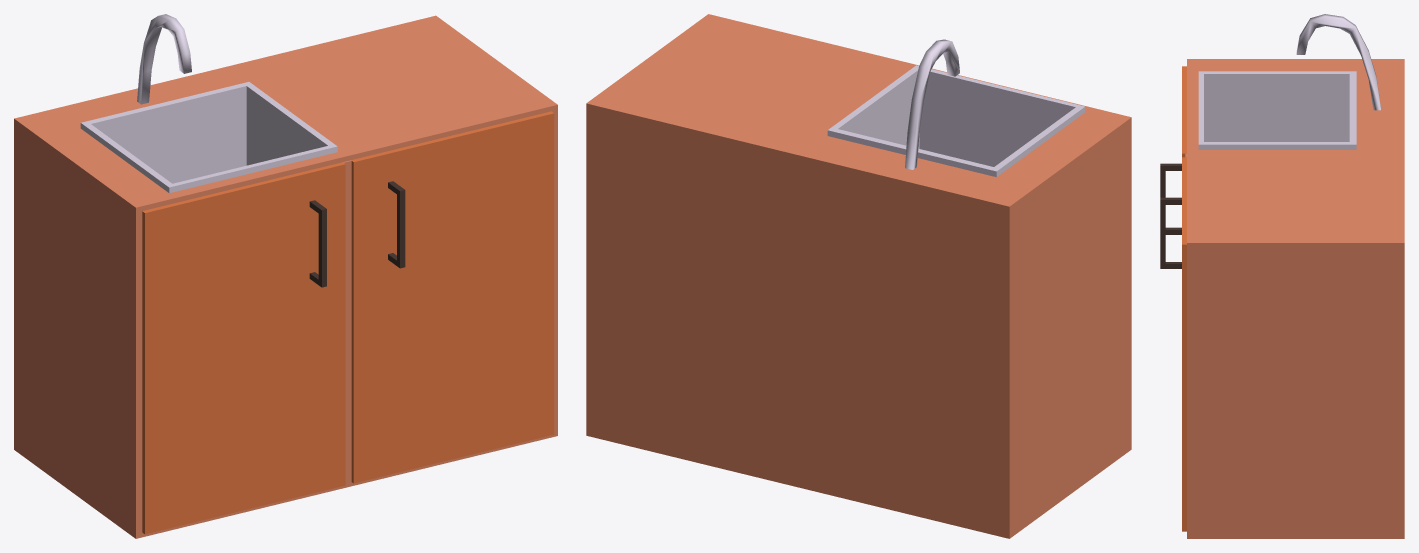
Rendered from meublesCuisineBas2.fbx.
3 views of the same model, side by side, from view 1: azimuth 30°, elevation 25°; view 2: azimuth 150°, elevation 25°; view 3: azimuth 270°, elevation 25° (orthographic). The views are drawn at different scales.
Parts seen in each view (by area): view 1: Placard4; view 2: Placard4; view 3: Placard4.
Boxes of the visible parts, x1,y1,x2,y2 form: Placard4: (14, 14, 557, 538); Placard4: (586, 14, 1131, 538); Placard4: (1160, 14, 1404, 538).
Bounding box in the file's own units: 400 × 394 × 224.
